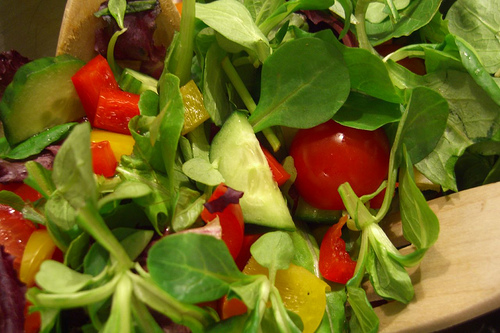cucumber: (208, 110, 298, 233), (1, 53, 87, 150), (121, 66, 158, 94)
